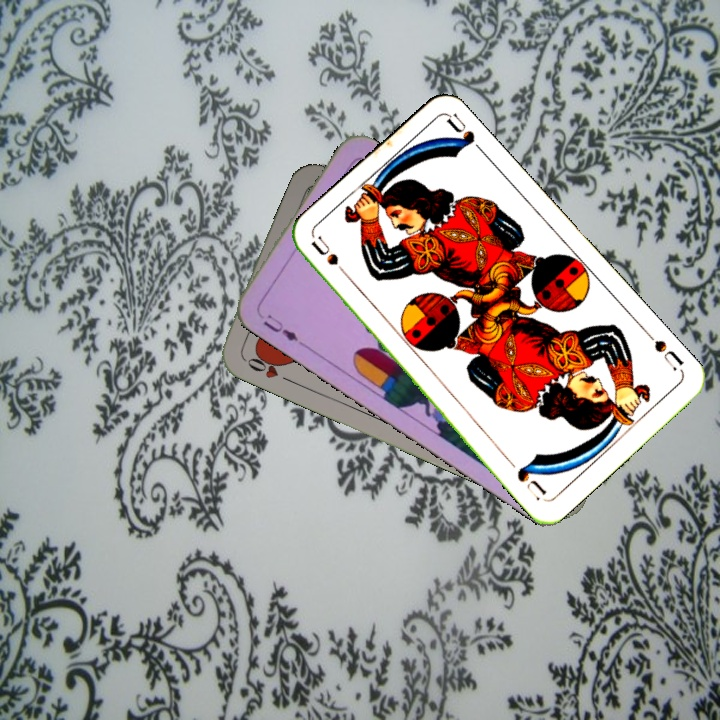EU: (255, 309, 301, 344)
HO: (238, 347, 294, 385)
SU: (307, 233, 354, 284), (650, 335, 687, 373)
